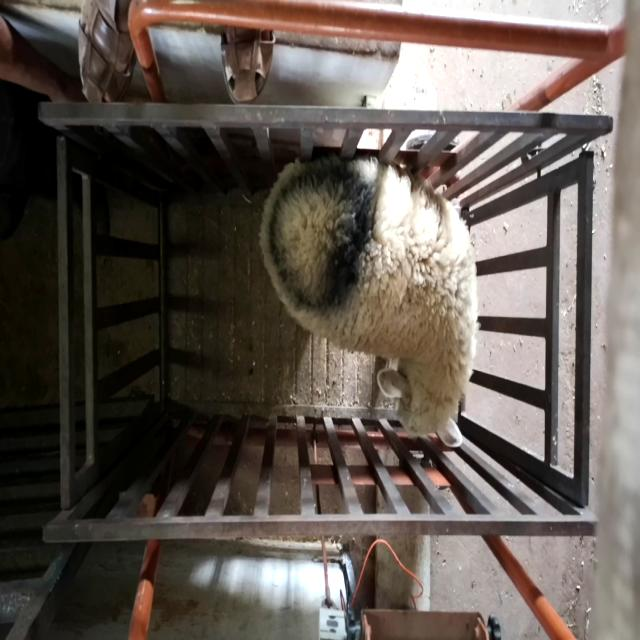sheep: (259, 156, 481, 448)
